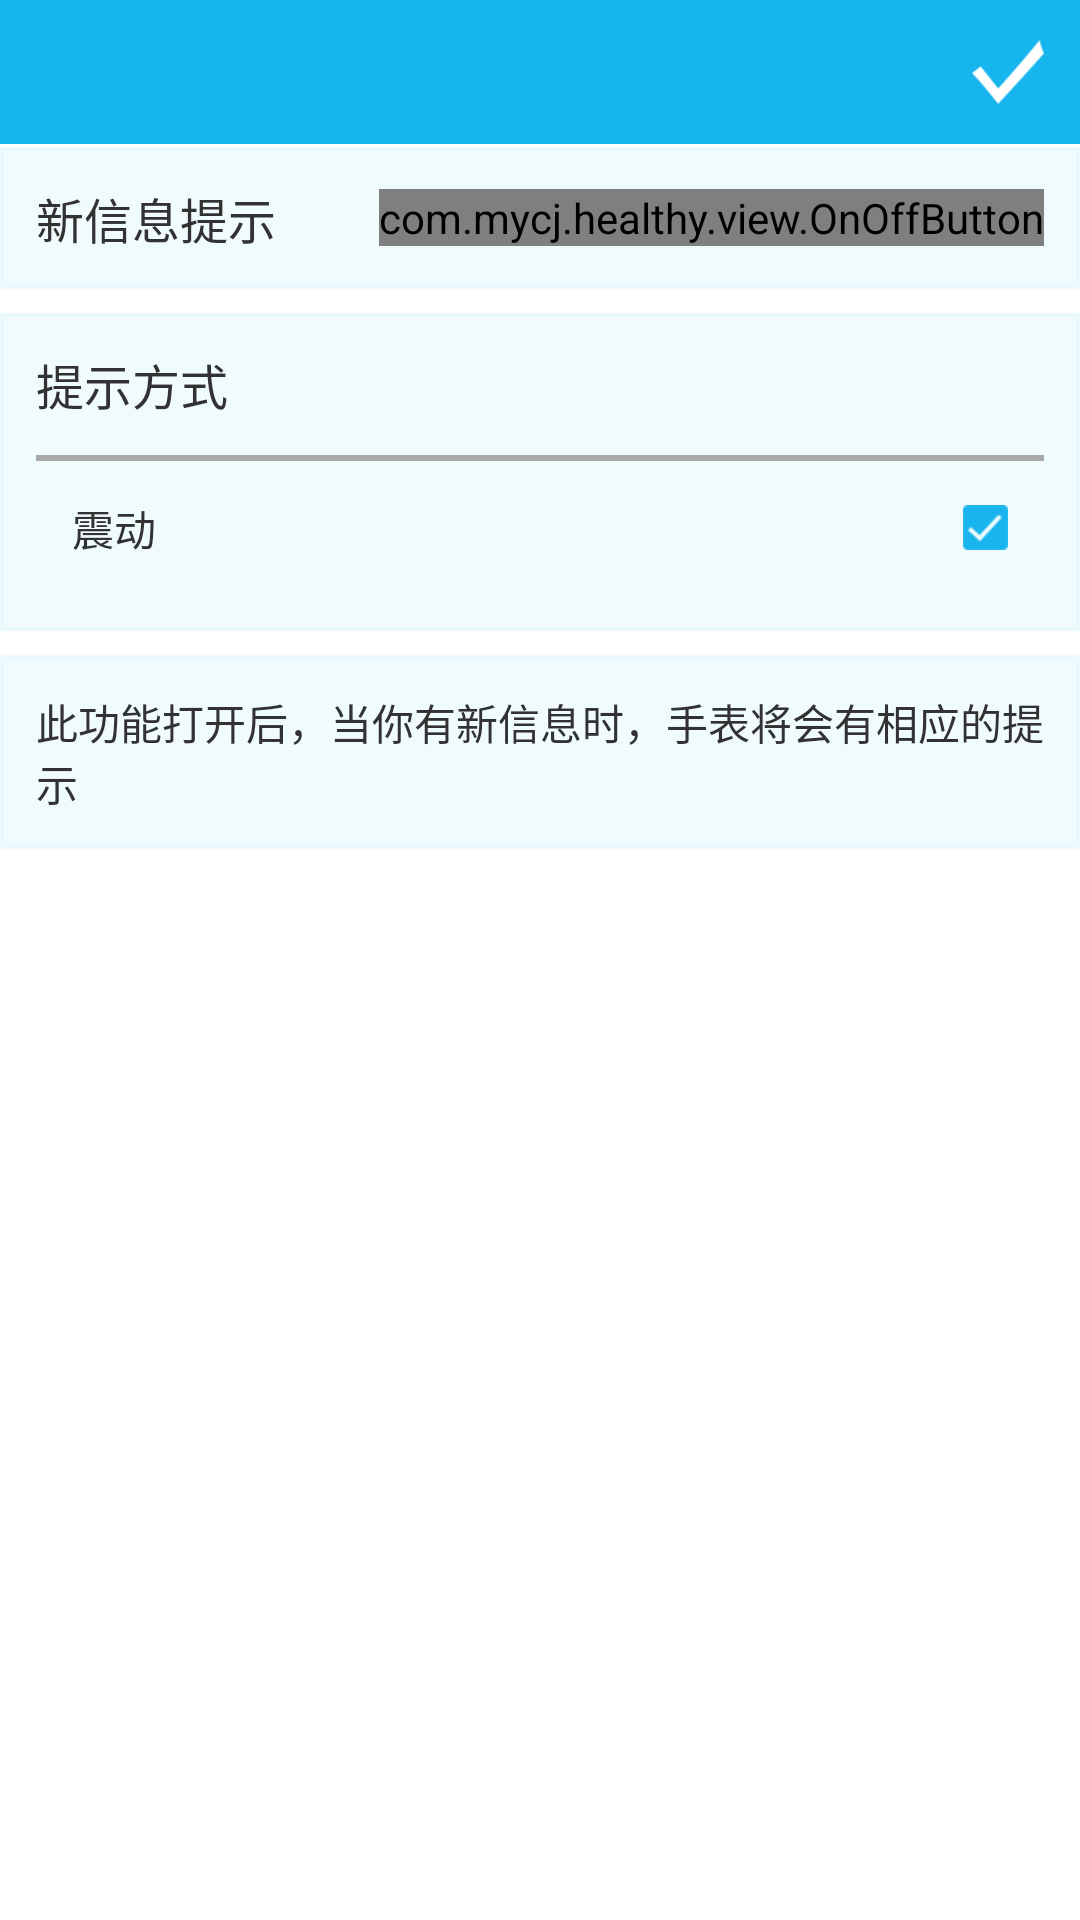

Where icons sit on this 1080×1920 app screen, as (x1, y1, x2, y2):
setting choose on: (963, 505, 1008, 550)
setting done: (972, 40, 1044, 104)
